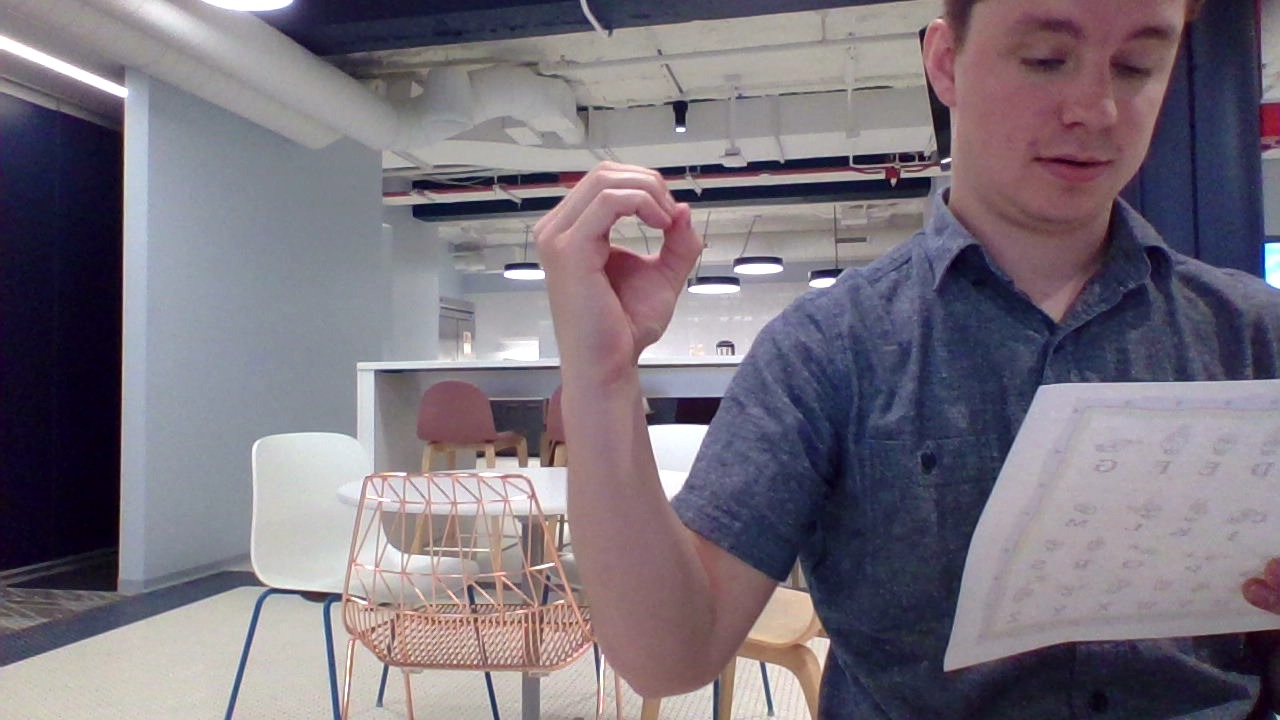o: (517, 148, 728, 407)
